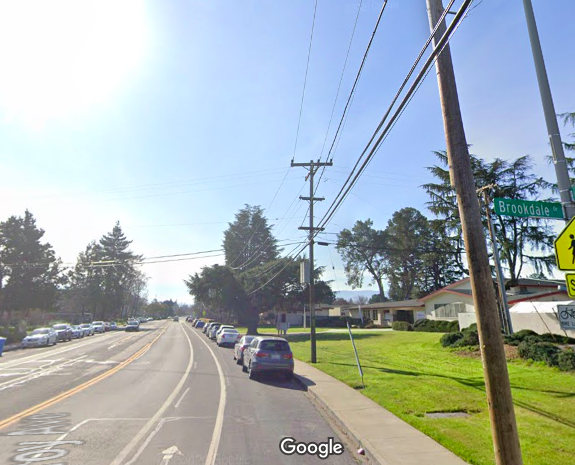utility_pole: (287, 151, 335, 181)
